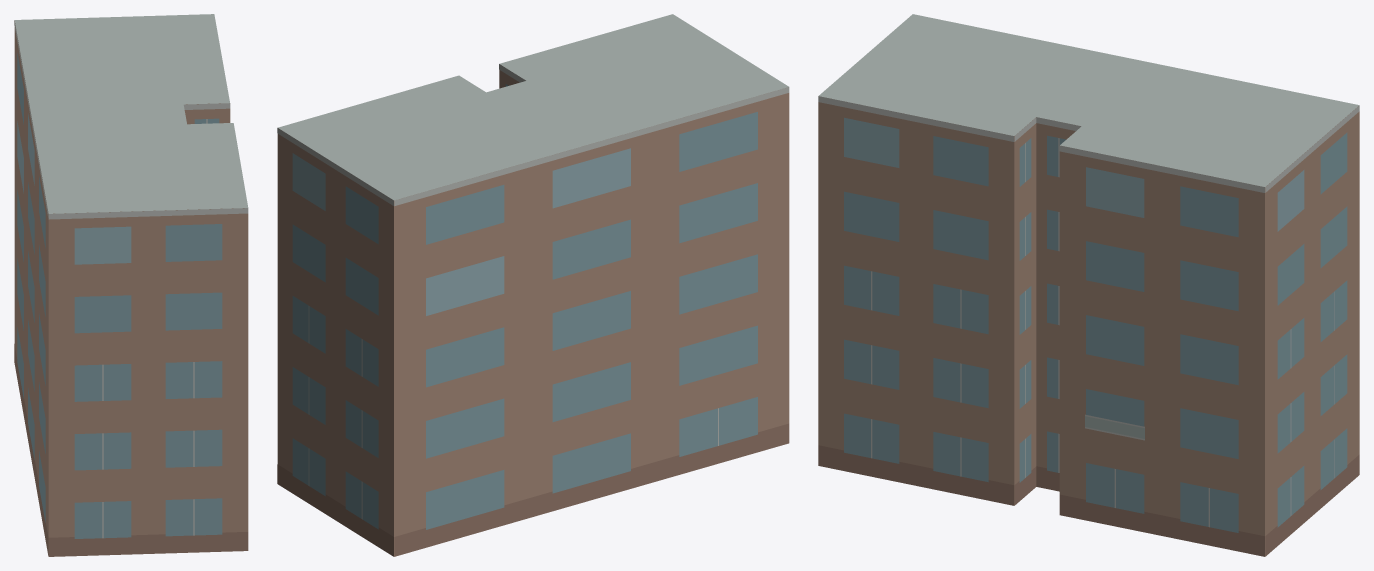
Rendered from survey-upis-32958182.glb.
3 views of the same model, side by side, from view 1: azimuth 30°, elevation 25°; view 2: azimuth 150°, elevation 25°; view 3: azimuth 270°, elevation 25° (orthographic). The views are drawn at different scales.
Visible parts, largest first — view 1: survey-upis-32958182.tmp; view 2: survey-upis-32958182.tmp; view 3: survey-upis-32958182.tmp.
Part boxes in pixels (bbox=[...]): survey-upis-32958182.tmp: bbox=[14, 14, 248, 556]; survey-upis-32958182.tmp: bbox=[277, 14, 789, 556]; survey-upis-32958182.tmp: bbox=[818, 14, 1359, 556].
Size of the model in its own units: 15.08 by 15 by 19.91.
